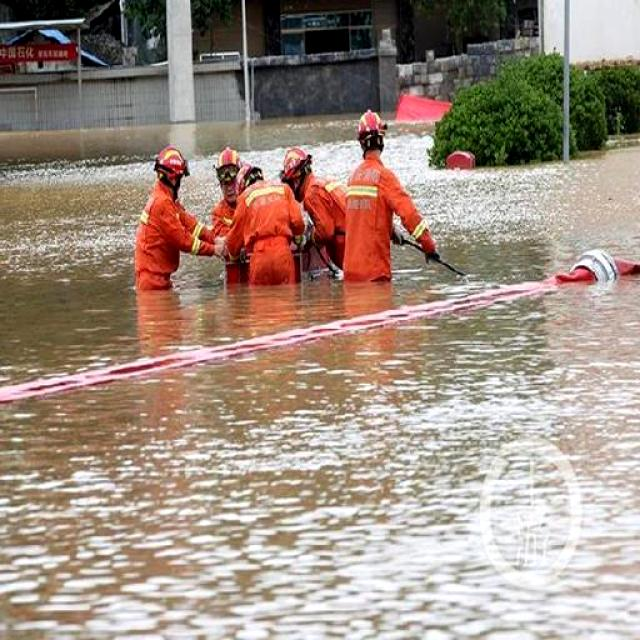rescuer: (334, 100, 446, 309), (131, 138, 225, 294), (275, 134, 353, 284), (233, 154, 310, 289), (198, 143, 262, 270)
